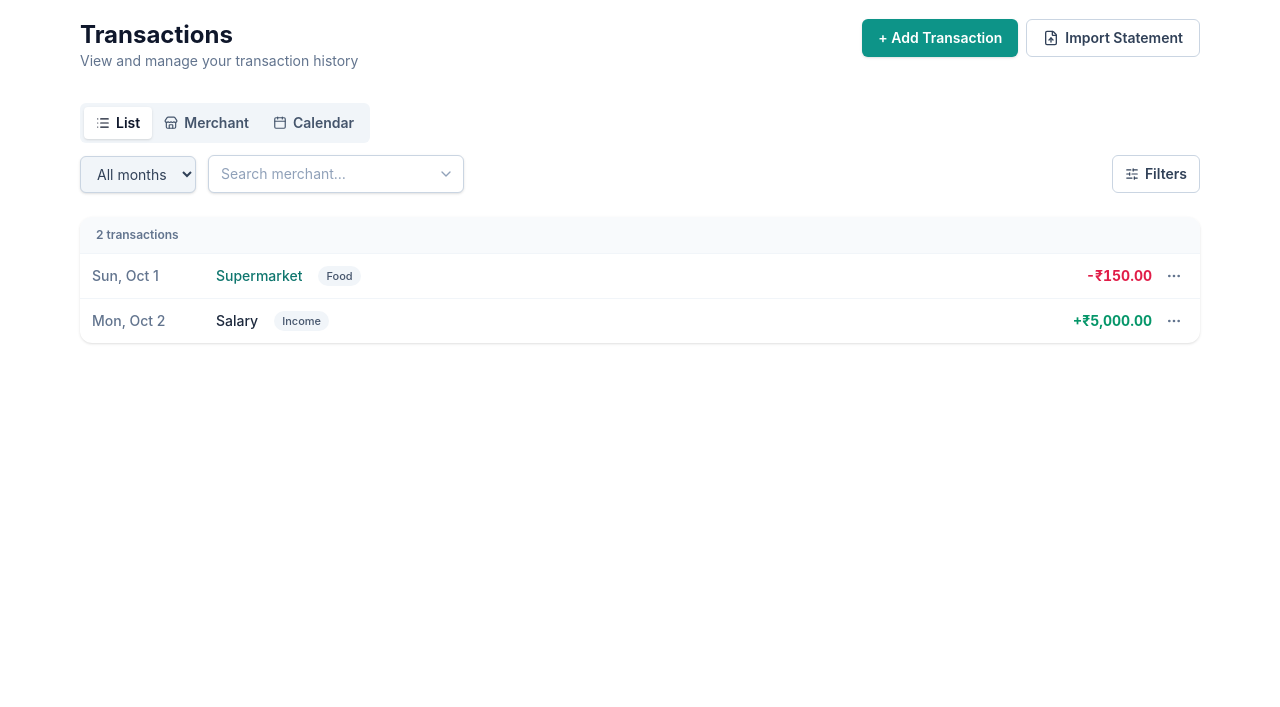
Test: TransactionsPage › Calendar tab renders the calendar grid
Expected: the link "Supermarket" is shown, [216,267,302,284]
Click the tab "Calendar" at (314, 123), box [261,107,366,139]
(page scrolled)
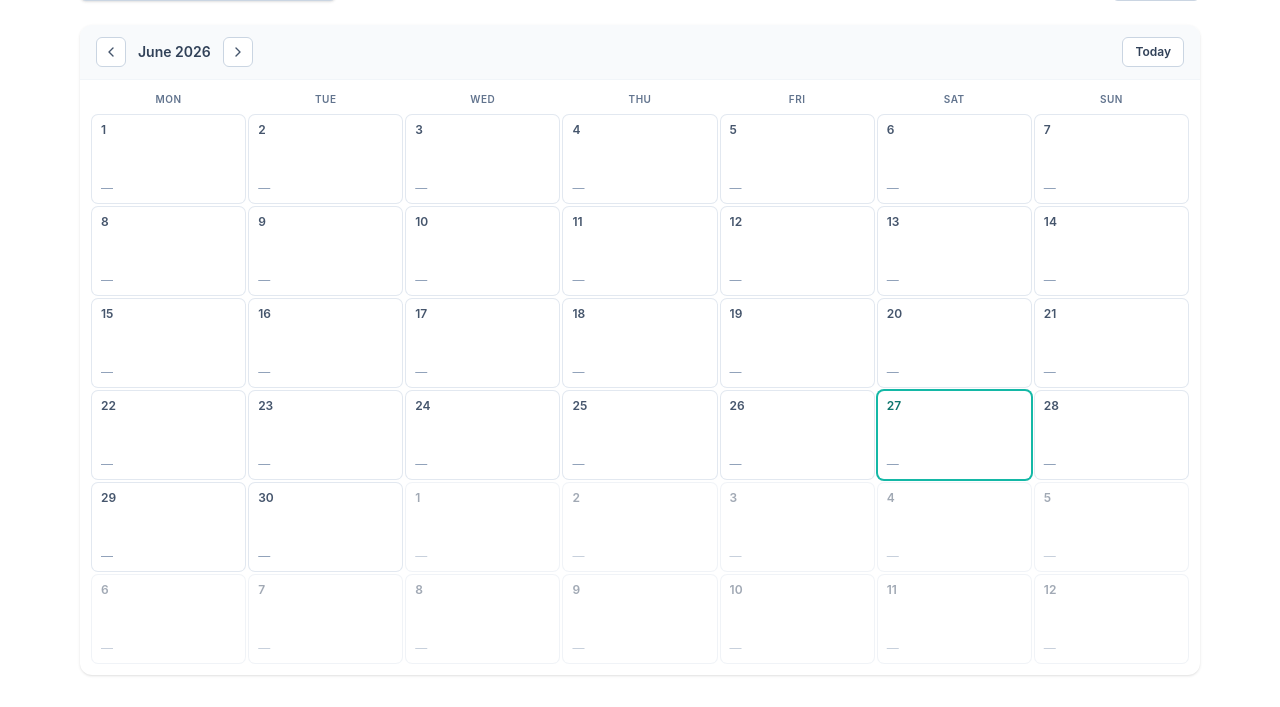
Expected: the table named "Transaction calendar" is shown
